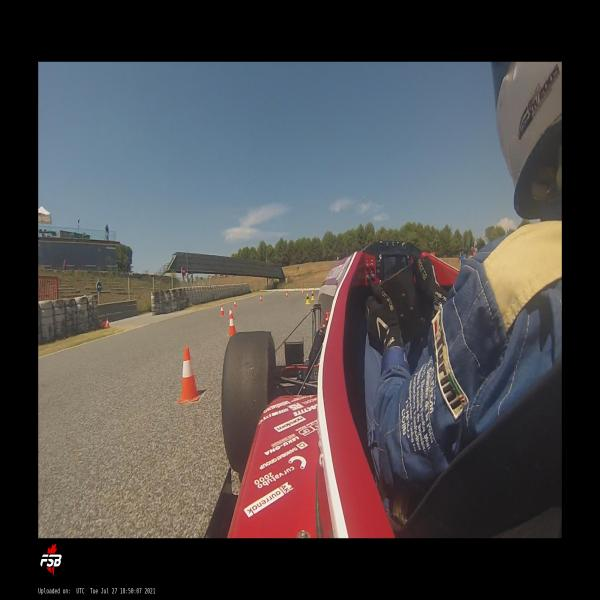orange_cone: (177, 346, 202, 404), (228, 314, 236, 336), (228, 307, 233, 323), (104, 317, 110, 328), (220, 305, 224, 316), (260, 295, 262, 302), (286, 291, 288, 298), (234, 301, 236, 307), (302, 288, 304, 294)
yellow_cone: (306, 294, 310, 305), (311, 291, 314, 300)
